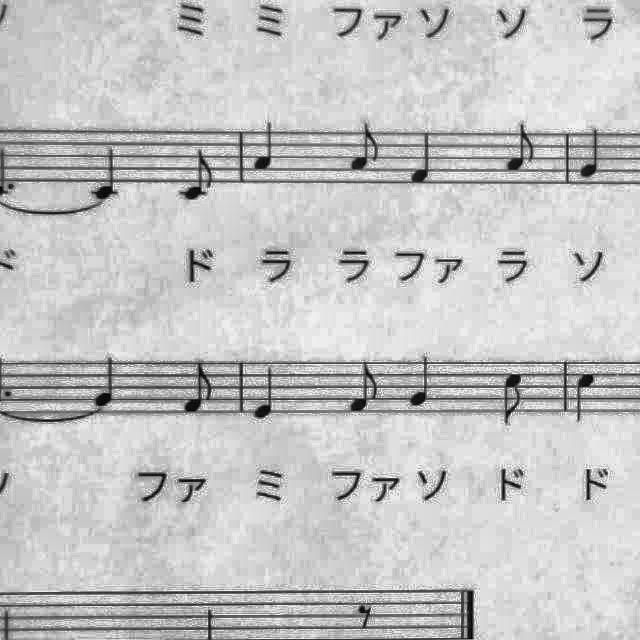Eighth-note: (173, 146, 217, 207), (177, 358, 221, 418), (341, 357, 383, 419), (499, 119, 541, 178), (343, 122, 383, 178), (496, 368, 530, 430)
Eighth-rest: (350, 598, 380, 634)
Quarter-note: (86, 143, 126, 203), (404, 128, 440, 190), (250, 362, 286, 422), (89, 354, 125, 412), (405, 352, 439, 412), (568, 366, 602, 426), (576, 122, 608, 184), (251, 121, 285, 175)
